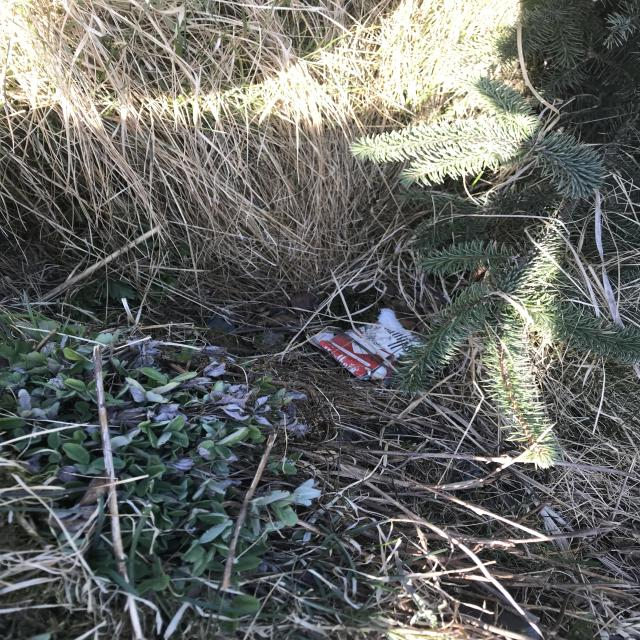litter: (409, 161, 505, 250)
